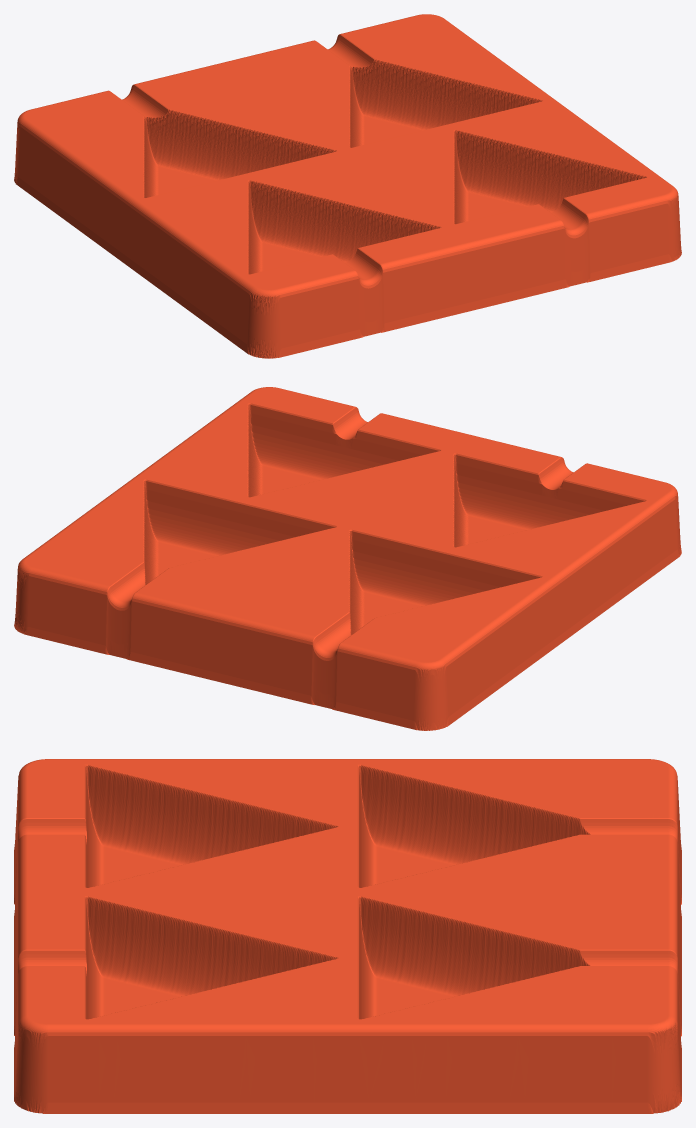
Rendered from mold.glb.
3 renders of one model, top to bottom at view 1: azimuth 30°, elevation 25°; view 2: azimuth 150°, elevation 25°; view 3: azimuth 270°, elevation 25°, orthographic. The views are drawn at different scales.
Visible parts, largest first — view 1: geometry_0; view 2: geometry_0; view 3: geometry_0.
Part boxes in pixels (left/top/right/bottom): geometry_0: left=14, top=14, right=681, bottom=358; geometry_0: left=14, top=387, right=681, bottom=730; geometry_0: left=14, top=759, right=681, bottom=1113.
Size of the model in its own units: 0.1726 by 0.0245 by 0.1767.
